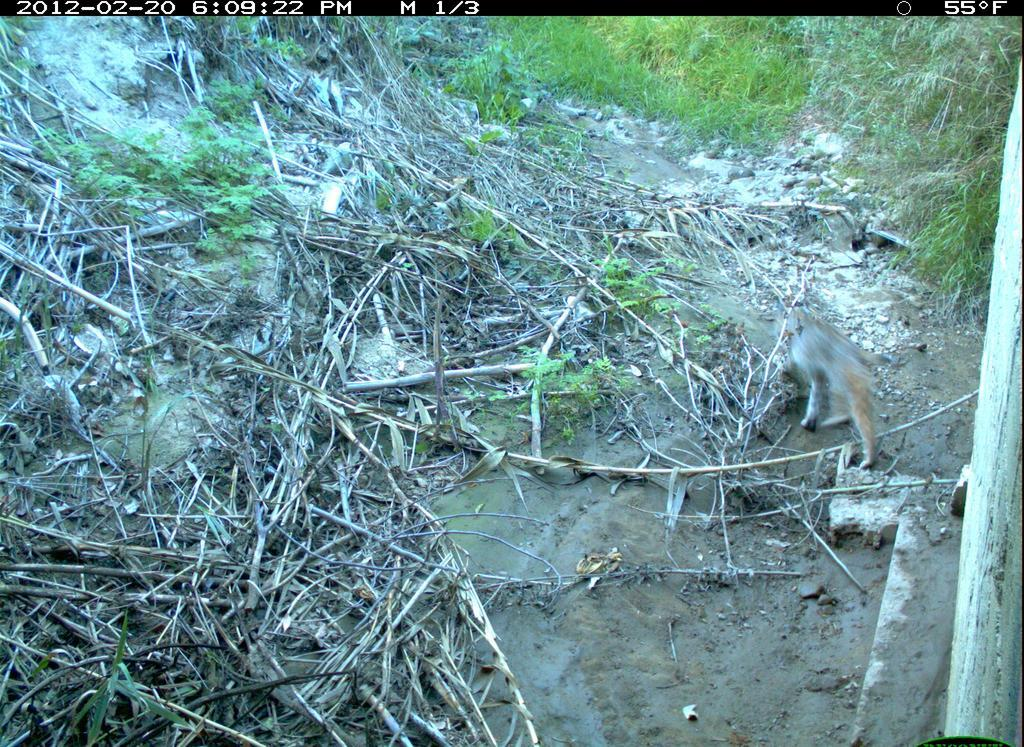bobcat: (765, 294, 902, 479)
